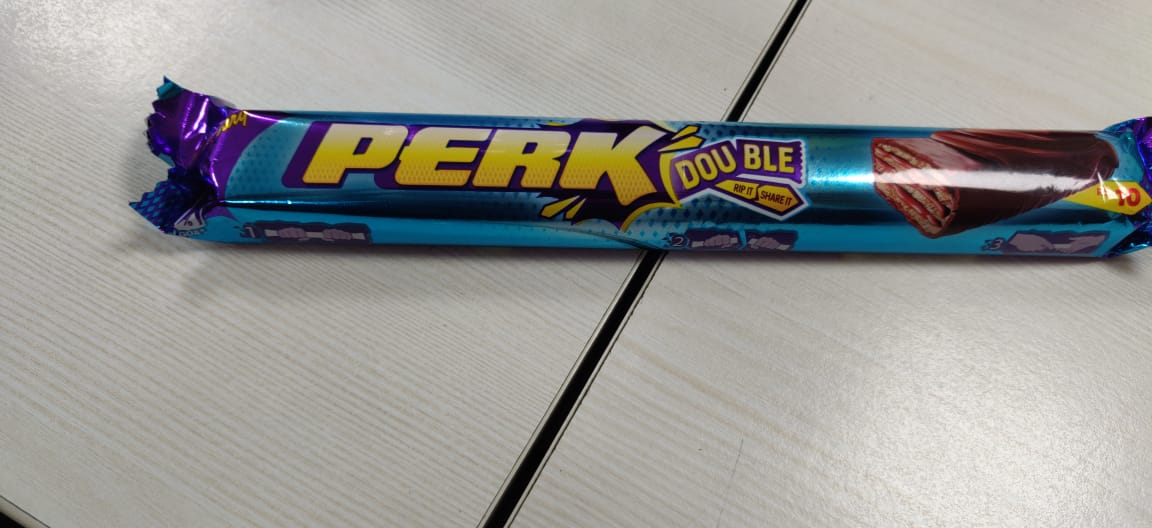perk: (134, 66, 1152, 314)
